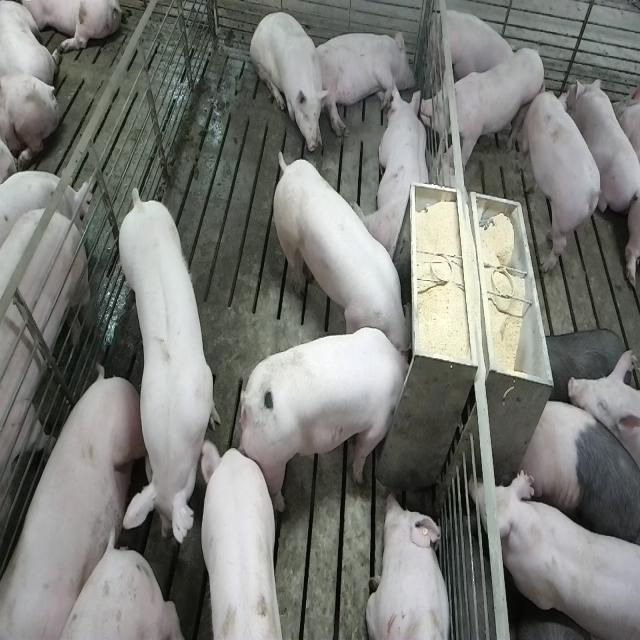Feeding: (244, 326, 420, 513), (268, 143, 411, 357)
Lateral_lying: (312, 28, 416, 139)
Sitting: (250, 10, 328, 158)
Standing: (0, 190, 94, 640), (115, 191, 220, 563), (482, 468, 638, 640), (519, 393, 639, 560), (201, 445, 288, 640), (420, 48, 546, 175), (522, 83, 605, 260)
Sternal_lying: (358, 82, 433, 265), (368, 490, 454, 640), (570, 75, 638, 222), (428, 5, 518, 92)
